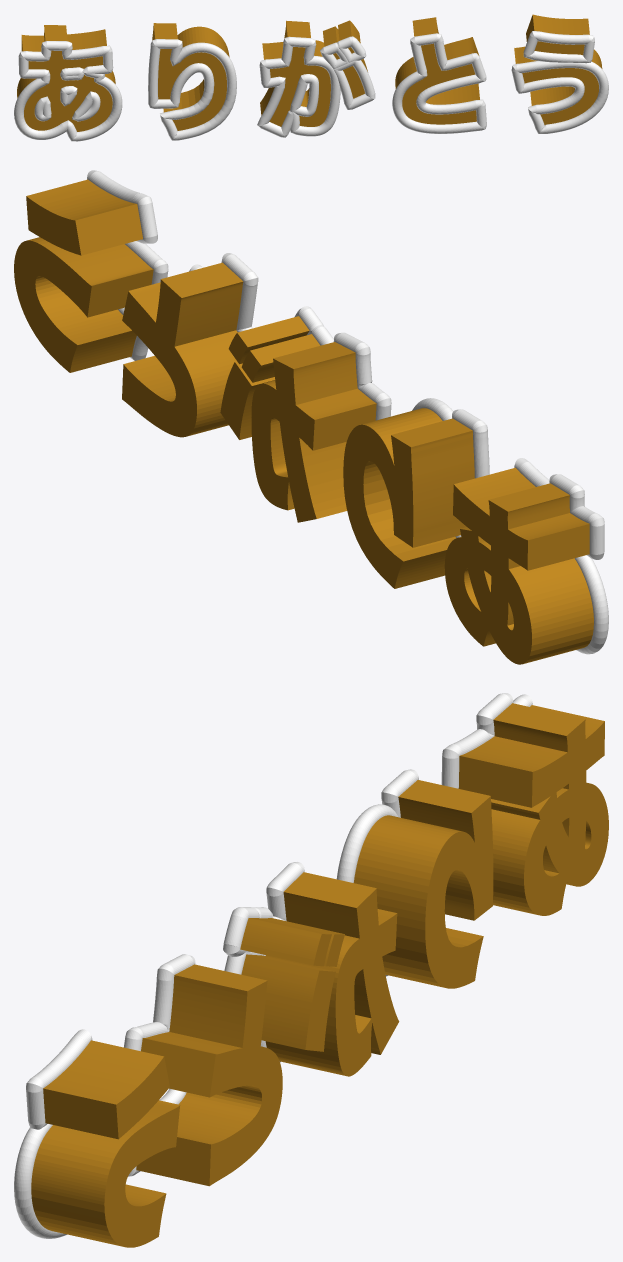
The model's file is asset.gltf.
The picture shows the model from 3 angles, top to bottom: view 1: azimuth 30°, elevation 25°; view 2: azimuth 150°, elevation 25°; view 3: azimuth 270°, elevation 25°; orthographic projection. The views are drawn at different scales.
Visible parts, largest first — view 1: が(2)-Stroke, あ(0)-Stroke, あ(0), う(4)-Stroke, り(1)-Stroke, が(2), と(3)-Stroke, と(3), う(4), り(1); view 2: あ(0), が(2), う(4), り(1), と(3), あ(0)-Stroke, う(4)-Stroke, が(2)-Stroke, り(1)-Stroke, と(3)-Stroke; view 3: が(2), う(4), あ(0), と(3), り(1), う(4)-Stroke, が(2)-Stroke, と(3)-Stroke, り(1)-Stroke, あ(0)-Stroke.
Part boxes in pixels (x1,y1,x2,y2): が(2)-Stroke: (257,36,375,137); あ(0)-Stroke: (14,41,122,141); あ(0): (17,25,115,131); う(4)-Stroke: (511,31,608,133); り(1)-Stroke: (148,39,236,140); が(2): (260,20,367,126); と(3)-Stroke: (392,33,486,133); と(3): (395,17,479,124); う(4): (514,14,602,124); り(1): (152,23,229,130); あ(0): (444,467,593,664); が(2): (220,316,376,522); う(4): (14,179,153,372); り(1): (343,408,474,588); と(3): (122,262,243,437); あ(0)-Stroke: (514,458,608,654); う(4)-Stroke: (87,170,168,360); が(2)-Stroke: (294,306,391,420); り(1)-Stroke: (412,398,489,537); と(3)-Stroke: (189,253,258,332); が(2): (240,872,399,1076); う(4): (31,1040,180,1247); あ(0): (458,703,608,915); と(3): (136,964,282,1186); り(1): (353,780,493,988); う(4)-Stroke: (14,1029,92,1238); が(2)-Stroke: (223,862,304,1062); と(3)-Stroke: (124,954,195,1176); り(1)-Stroke: (336,769,418,976); あ(0)-Stroke: (441,693,532,788).
Bounding box in the file's own units: 3.69 × 0.764 × 2.16.
